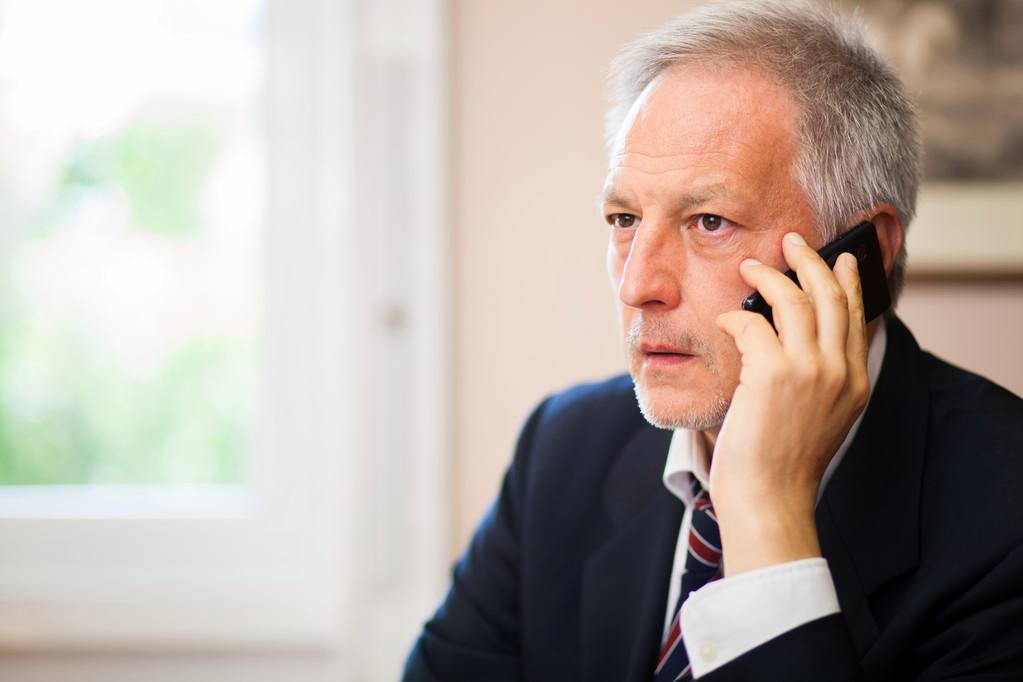calling: (703, 214, 900, 514)
